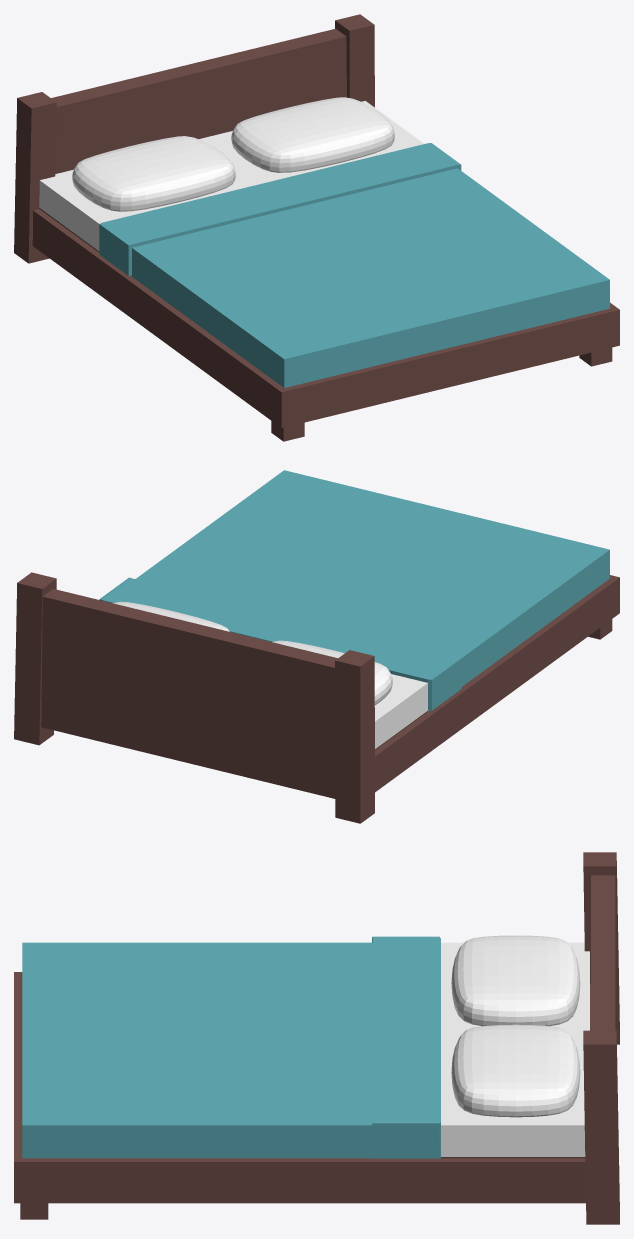
Rendered from Bed.fbx.
3 renders of one model, top to bottom at view 1: azimuth 30°, elevation 25°; view 2: azimuth 150°, elevation 25°; view 3: azimuth 270°, elevation 25°, orthographic. The views are drawn at different scales.
Parts seen in each view (by area): view 1: Bed1_02; view 2: Bed1_02; view 3: Bed1_02.
Part boxes in pixels (left/top/right/bottom): Bed1_02: left=14, top=14, right=619, bottom=441; Bed1_02: left=14, top=470, right=619, bottom=823; Bed1_02: left=14, top=852, right=619, bottom=1224.
Size of the model in its own units: 331 by 142 by 436.
